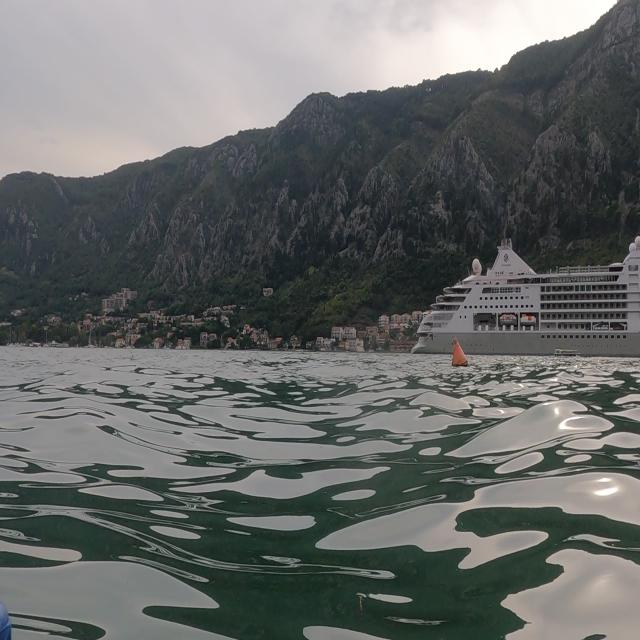boat: (410, 228, 638, 359)
buoy: (444, 334, 472, 374)
